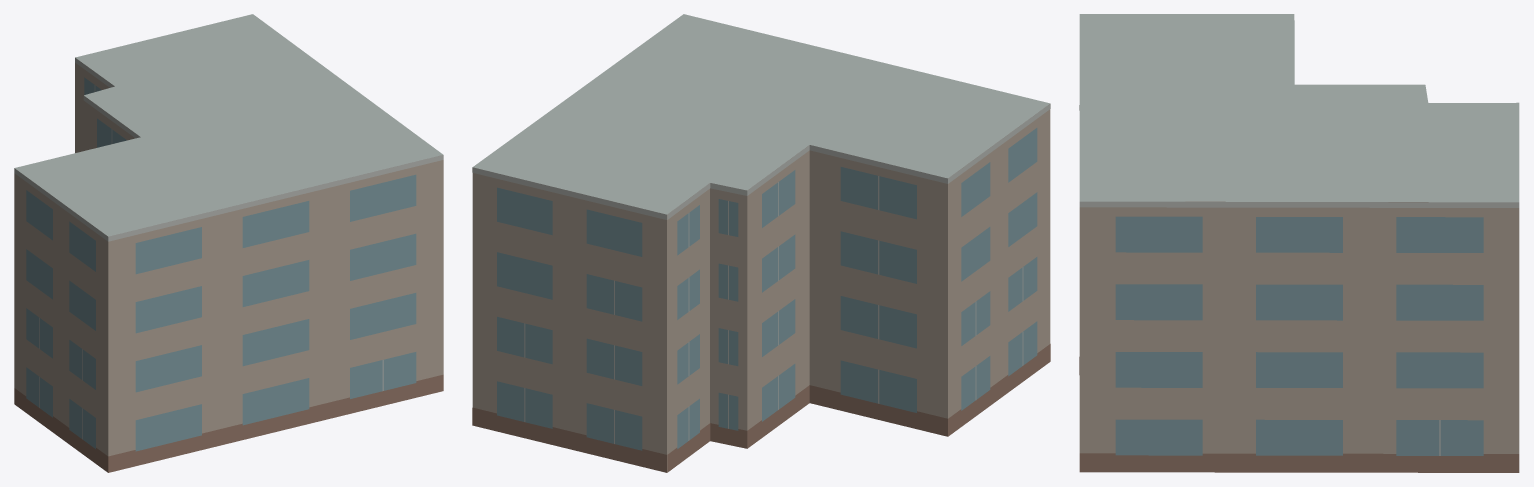
File: survey-upis-32772711.glb
The picture shows the model from 3 angles, left to right: view 1: azimuth 30°, elevation 25°; view 2: azimuth 150°, elevation 25°; view 3: azimuth 270°, elevation 25°; orthographic projection. The views are drawn at different scales.
Parts seen in each view (by area): view 1: survey-upis-32772711.tmp; view 2: survey-upis-32772711.tmp; view 3: survey-upis-32772711.tmp.
Part boxes in pixels (x1=…): survey-upis-32772711.tmp: x1=14, y1=14, x2=443, y2=472; survey-upis-32772711.tmp: x1=472, y1=14, x2=1050, y2=472; survey-upis-32772711.tmp: x1=1079, y1=14, x2=1519, y2=472.
Bounding box in the file's own units: 17.02 × 11.4 × 16.81.
